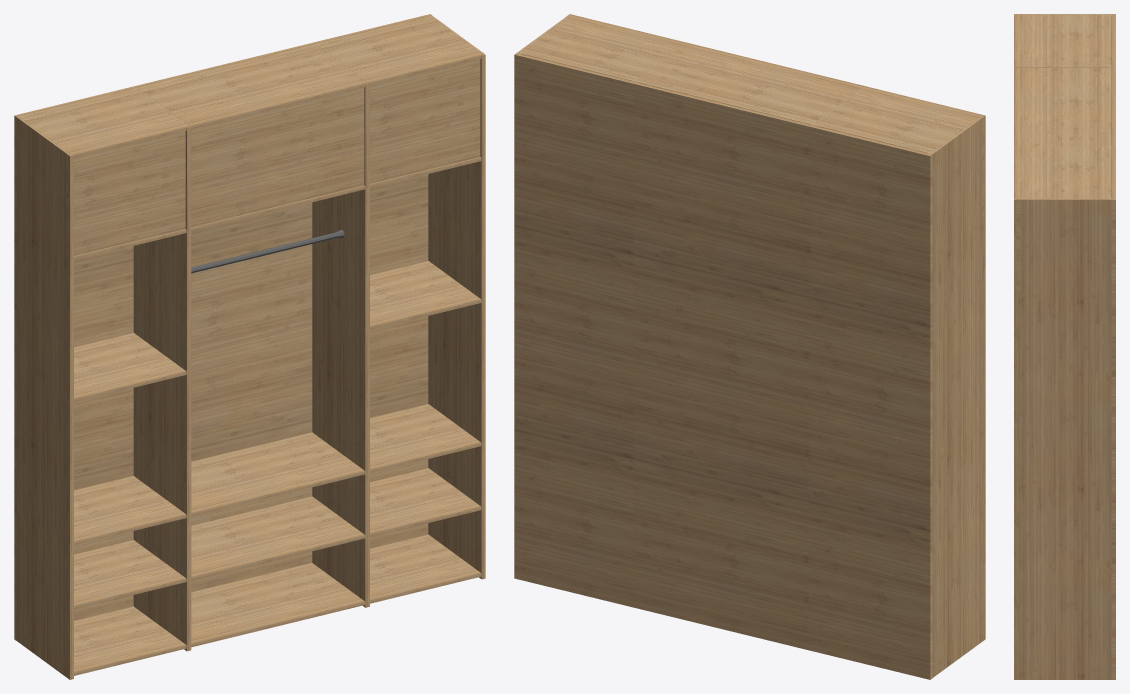
The model's file is wardrobe.fbx.
3 renders of one model, left to right at view 1: azimuth 30°, elevation 25°; view 2: azimuth 150°, elevation 25°; view 3: azimuth 270°, elevation 25°, orthographic. The views are drawn at different scales.
Parts seen in each view (by area): view 1: polySurface1336; view 2: polySurface1336; view 3: polySurface1336.
Part boxes in pixels (<box>): polySurface1336: <box>14,14,485,679</box>; polySurface1336: <box>514,14,985,679</box>; polySurface1336: <box>1014,14,1115,679</box>.
Size of the model in its own units: 29.92 by 36 by 6.92.
2 materials, 1 textured.
